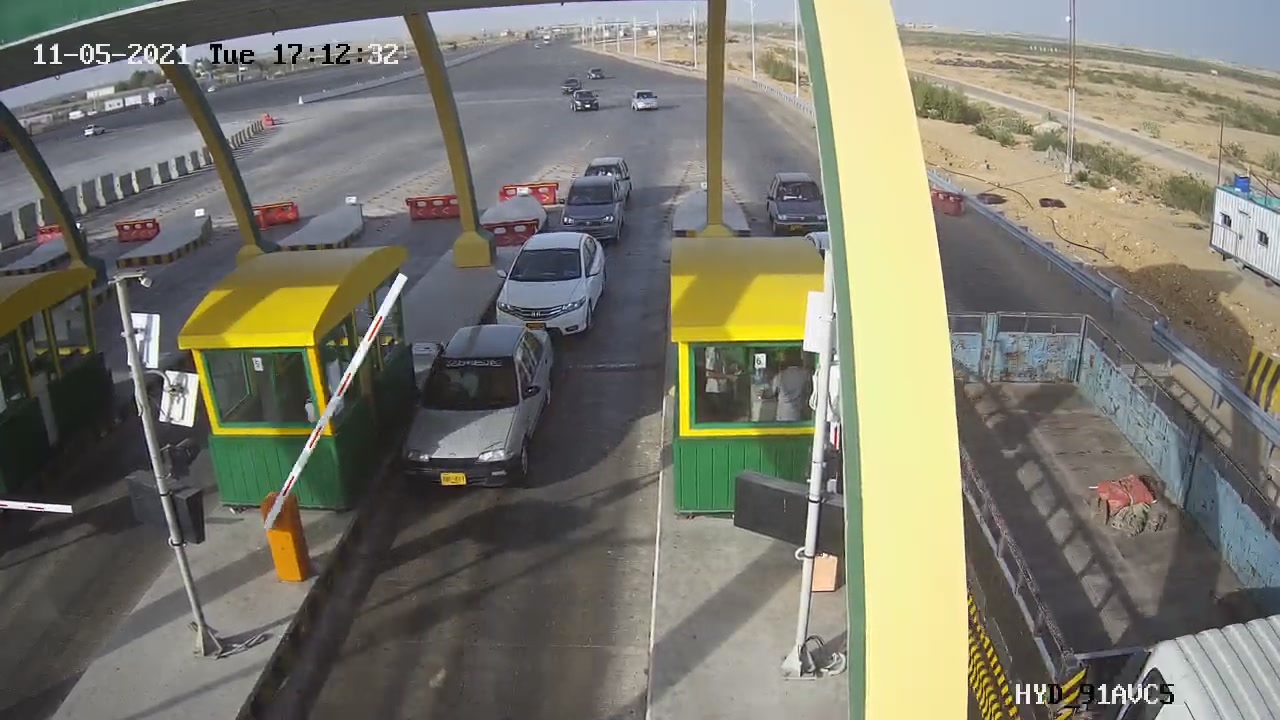F1: (383, 312, 576, 511), (476, 216, 616, 355)
